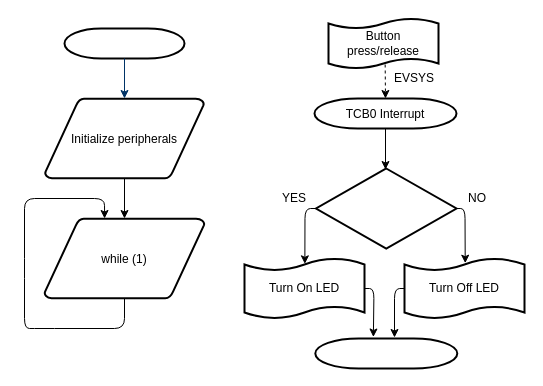
Some shapes in this 543 by 386 pixel diagram are drawn without their labels. The centre of each missing label's shape, as x and y in pixels:
"Button pressed?" goes at pixel 385 208.
"end interrupt" goes at pixel 386 353.
"main start" goes at pixel 124 43.
